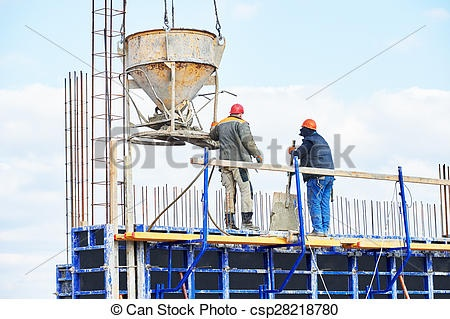red: (229, 103, 244, 118)
yellow: (300, 118, 316, 135)
